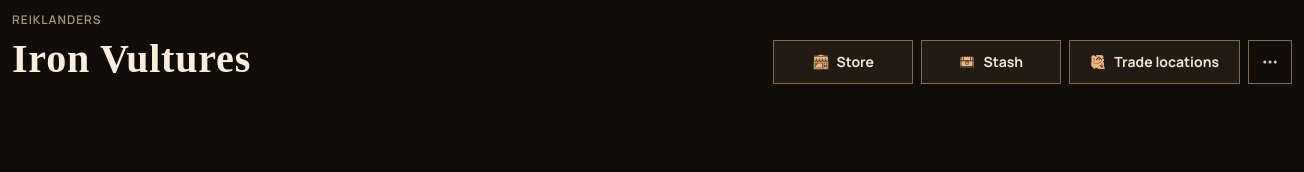
Test: WarbandHeader's Encampment › is not in the menu when the page asks for none
What coordinates should you click on to do the following:
click the button named "More warband actions"
I would click on:
 (1270, 62)
Its box is [1248,40,1292,84].
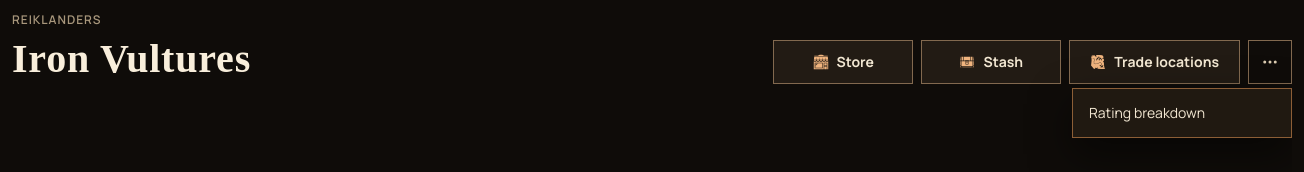
Check: the menu item "Rating breakdown" is shown, box [1089,103,1205,122]
